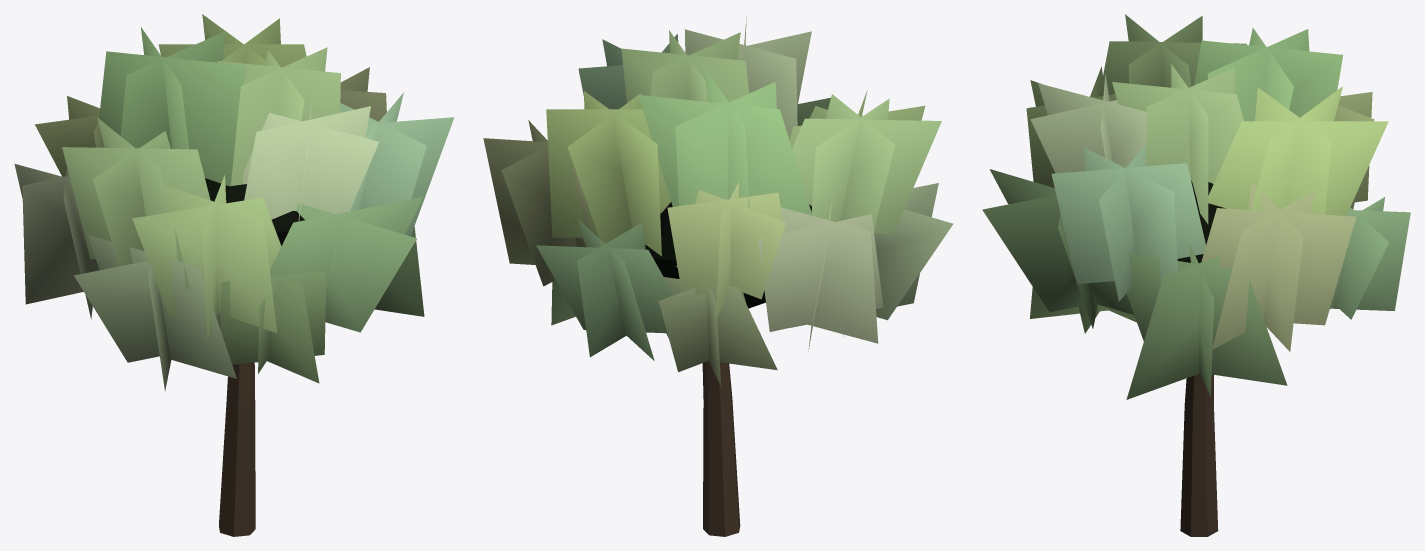
File: tree_round.glb
The picture shows the model from 3 angles, left to right: view 1: azimuth 30°, elevation 25°; view 2: azimuth 150°, elevation 25°; view 3: azimuth 270°, elevation 25°; orthographic projection.
Parts seen in each view (by area): view 1: tree_round; view 2: tree_round; view 3: tree_round.
Part boxes in pixels (x1,y1,x2,y2): tree_round: (14, 14, 454, 536); tree_round: (483, 17, 953, 536); tree_round: (982, 14, 1410, 536).
Bounding box in the file's own units: 5.2 × 5.8 × 4.87.
